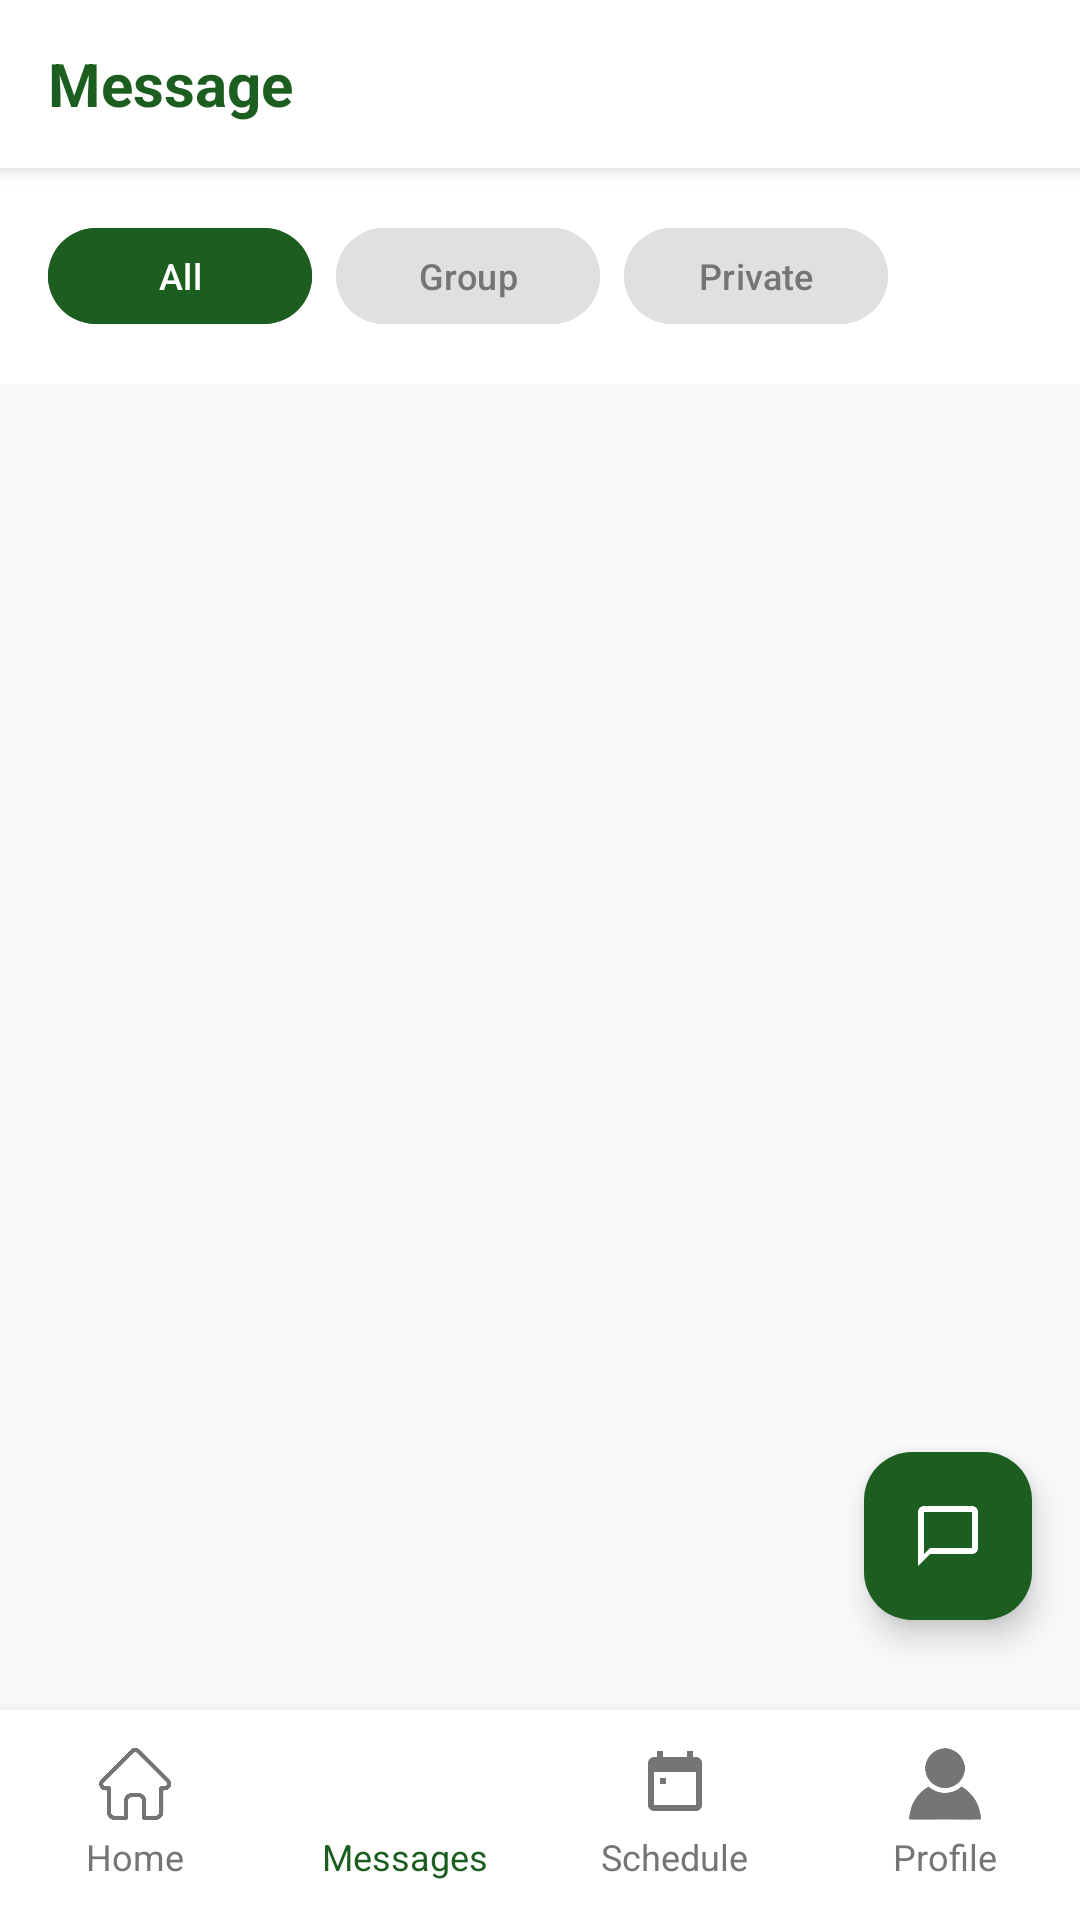

Named icons in this screenshot (1080 × 1920) and their bounding boxes, (x1, y1, x2, y2):
calendar: (648, 1751, 702, 1811)
chat: (864, 1452, 1032, 1620)
